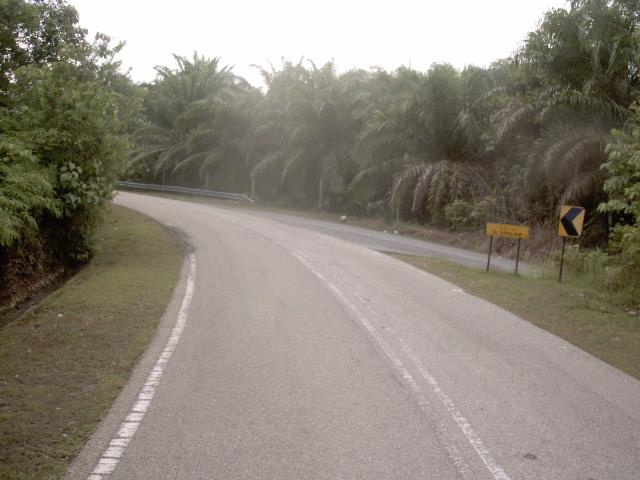traffic_sign: (551, 198, 592, 245)
